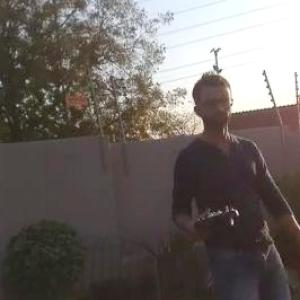follow: (167, 64, 299, 299)
